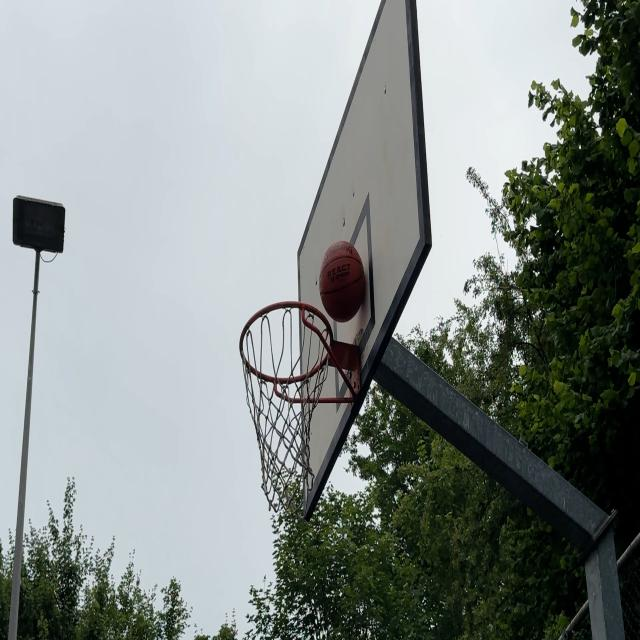rebound_hit: (319, 240, 371, 324)
